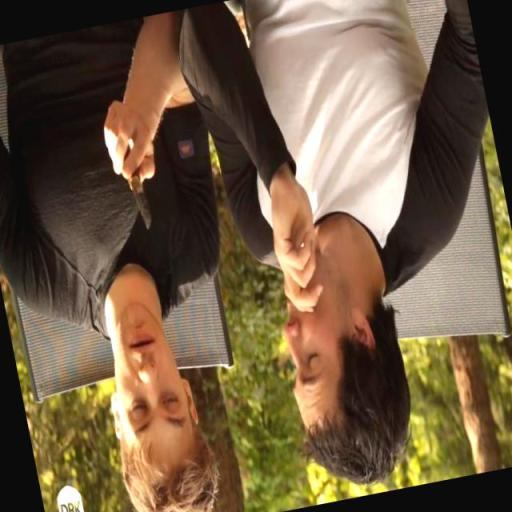knife: (95, 110, 176, 254)
